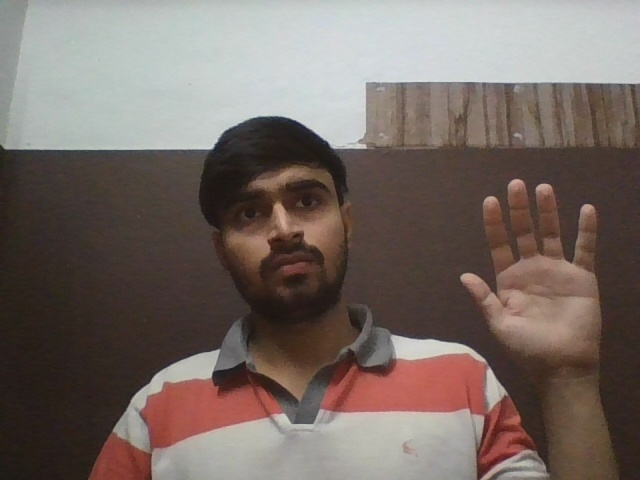Hello: (457, 178, 602, 369)
